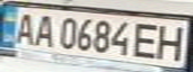0: (54, 15, 78, 51)
4: (109, 19, 136, 56)
6: (75, 16, 96, 52)
8: (90, 18, 115, 55)
A: (9, 10, 39, 46), (30, 11, 57, 47)
E: (130, 20, 163, 60)
H: (154, 21, 190, 62)
